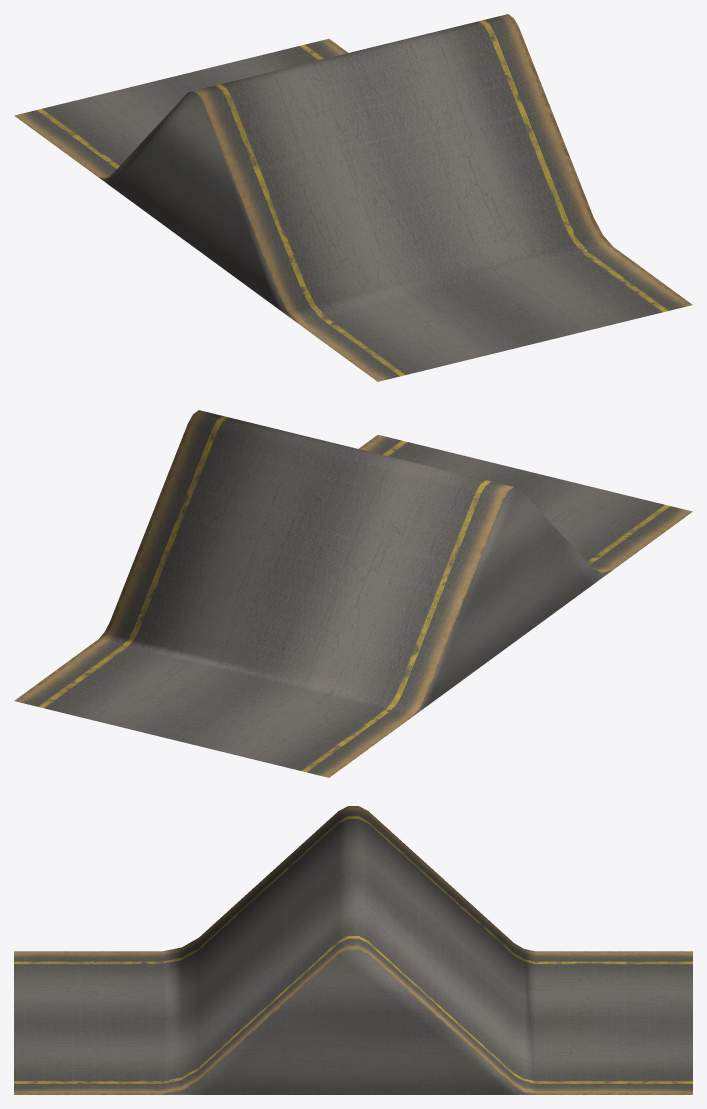
Rendered from road.103.fbx.
3 views of the same model, one above another, from view 1: azimuth 30°, elevation 25°; view 2: azimuth 150°, elevation 25°; view 3: azimuth 270°, elevation 25° (orthographic). The views are drawn at different scales.
Parts seen in each view (by area): view 1: road_103; view 2: road_103; view 3: road_103.
Boxes of the visible parts, x1,y1,x2,y2 form: road_103: (14,14,692,381); road_103: (14,410,692,777); road_103: (14,806,692,1094).
Size of the model in its own units: 8 by 3.78 by 16.
